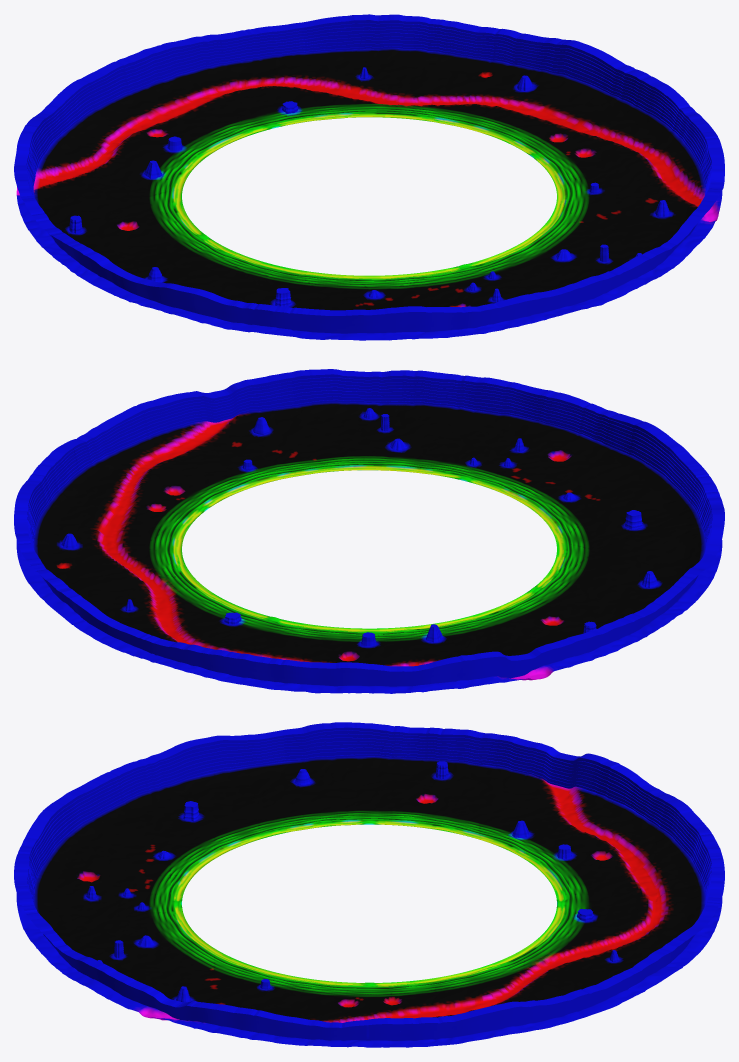
File: concordia_exterior.glb
3 renders of one model, top to bottom at view 1: azimuth 30°, elevation 25°; view 2: azimuth 150°, elevation 25°; view 3: azimuth 270°, elevation 25°, orthographic.
Parts seen in each view (by area): view 1: EXT_Cliffs, TRN_ExteriorChunk_x8_y15_LOD0, TRN_ExteriorChunk_x9_y15_LOD0, TRN_ExteriorChunk_x7_y15_LOD0, TRN_ExteriorChunk_x10_y14_LOD0, TRN_ExteriorChunk_x3_y13_LOD0, TRN_ExteriorChunk_x12_y12_LOD0, TRN_ExteriorChunk_x15_y7_LOD0, TRN_ExteriorChunk_x11_y13_LOD0, TRN_ExteriorChunk_x14_y10_LOD0, TRN_ExteriorChunk_x12_y14_LOD0, TRN_ExteriorChunk_x13_y13_LOD0 (+87 smaller); view 2: EXT_Cliffs, TRN_ExteriorChunk_x9_y1_LOD0, TRN_ExteriorChunk_x7_y1_LOD0, TRN_ExteriorChunk_x8_y1_LOD0, TRN_ExteriorChunk_x15_y7_LOD0, TRN_ExteriorChunk_x15_y8_LOD0, TRN_ExteriorChunk_x5_y2_LOD0, TRN_ExteriorChunk_x15_y9_LOD0, TRN_ExteriorChunk_x15_y6_LOD0, TRN_ExteriorChunk_x12_y4_LOD0, TRN_ExteriorChunk_x12_y11_LOD0, TRN_ExteriorChunk_x6_y2_LOD0 (+87 smaller); view 3: EXT_Cliffs, TRN_ExteriorChunk_x1_y8_LOD0, TRN_ExteriorChunk_x1_y9_LOD0, TRN_ExteriorChunk_x13_y10_LOD0, TRN_ExteriorChunk_x3_y3_LOD0, TRN_ExteriorChunk_x3_y13_LOD0, TRN_ExteriorChunk_x1_y7_LOD0, TRN_ExteriorChunk_x10_y13_LOD0, TRN_ExteriorChunk_x2_y11_LOD0, TRN_ExteriorChunk_x2_y10_LOD0, TRN_ExteriorChunk_x3_y6_LOD0, TRN_ExteriorChunk_x5_y14_LOD0 (+89 smaller).
Part boxes in pixels (x1,y1,x2,y2): EXT_Cliffs: (14, 14, 724, 333); TRN_ExteriorChunk_x8_y15_LOD0: (185, 66, 244, 97); TRN_ExteriorChunk_x9_y15_LOD0: (223, 58, 282, 89); TRN_ExteriorChunk_x7_y15_LOD0: (148, 76, 205, 104); TRN_ExteriorChunk_x10_y14_LOD0: (283, 66, 342, 93); TRN_ExteriorChunk_x3_y13_LOD0: (42, 147, 96, 177); TRN_ExteriorChunk_x12_y12_LOD0: (404, 79, 464, 106); TRN_ExteriorChunk_x15_y7_LOD0: (630, 130, 687, 162); TRN_ExteriorChunk_x11_y13_LOD0: (344, 73, 403, 101); TRN_ExteriorChunk_x14_y10_LOD0: (525, 93, 584, 122); TRN_ExteriorChunk_x12_y14_LOD0: (360, 48, 419, 73); TRN_ExteriorChunk_x13_y13_LOD0: (420, 53, 479, 79); EXT_Cliffs: (14, 369, 724, 686); TRN_ExteriorChunk_x9_y1_LOD0: (456, 410, 515, 439); TRN_ExteriorChunk_x7_y1_LOD0: (532, 428, 591, 456); TRN_ExteriorChunk_x8_y1_LOD0: (494, 418, 553, 446); TRN_ExteriorChunk_x15_y7_LOD0: (93, 451, 152, 482); TRN_ExteriorChunk_x15_y8_LOD0: (71, 466, 131, 494); TRN_ExteriorChunk_x5_y2_LOD0: (587, 465, 646, 492); TRN_ExteriorChunk_x15_y9_LOD0: (51, 483, 108, 512); TRN_ExteriorChunk_x15_y6_LOD0: (118, 437, 175, 466); TRN_ExteriorChunk_x12_y4_LOD0: (275, 433, 334, 460); TRN_ExteriorChunk_x12_y11_LOD0: (120, 547, 179, 572); TRN_ExteriorChunk_x6_y2_LOD0: (549, 455, 608, 483); EXT_Cliffs: (14, 722, 724, 1040); TRN_ExteriorChunk_x1_y8_LOD0: (347, 758, 391, 782); TRN_ExteriorChunk_x1_y9_LOD0: (391, 759, 435, 781); TRN_ExteriorChunk_x13_y10_LOD0: (435, 987, 479, 1010); TRN_ExteriorChunk_x3_y3_LOD0: (126, 795, 170, 819); TRN_ExteriorChunk_x3_y13_LOD0: (568, 795, 612, 822); TRN_ExteriorChunk_x1_y7_LOD0: (303, 758, 347, 781); TRN_ExteriorChunk_x10_y13_LOD0: (568, 931, 612, 953); TRN_ExteriorChunk_x2_y11_LOD0: (480, 778, 524, 799); TRN_ExteriorChunk_x2_y10_LOD0: (435, 779, 479, 801); TRN_ExteriorChunk_x3_y6_LOD0: (259, 799, 303, 819); TRN_ExteriorChunk_x5_y14_LOD0: (612, 835, 656, 860).
Size of what is drawn, in the model's own units: 804 by 47.63 by 804.
